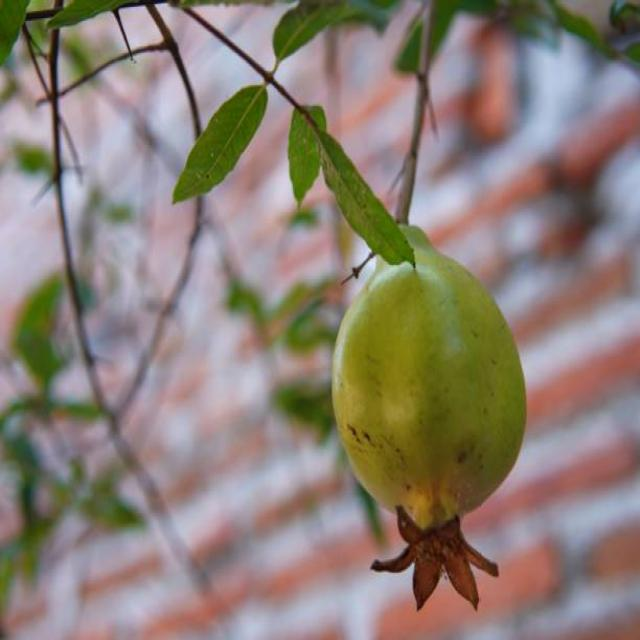Unripe: (335, 221, 528, 613)
